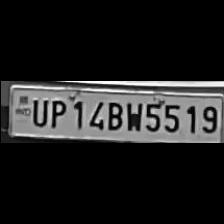1: (66, 96, 83, 130), (181, 102, 197, 134)
4: (85, 97, 103, 130)
5: (161, 100, 181, 134), (142, 99, 160, 133)
9: (198, 102, 218, 134)
B: (104, 97, 122, 130)
P: (45, 97, 65, 129)
U: (28, 96, 46, 128)
W: (122, 99, 142, 133)
